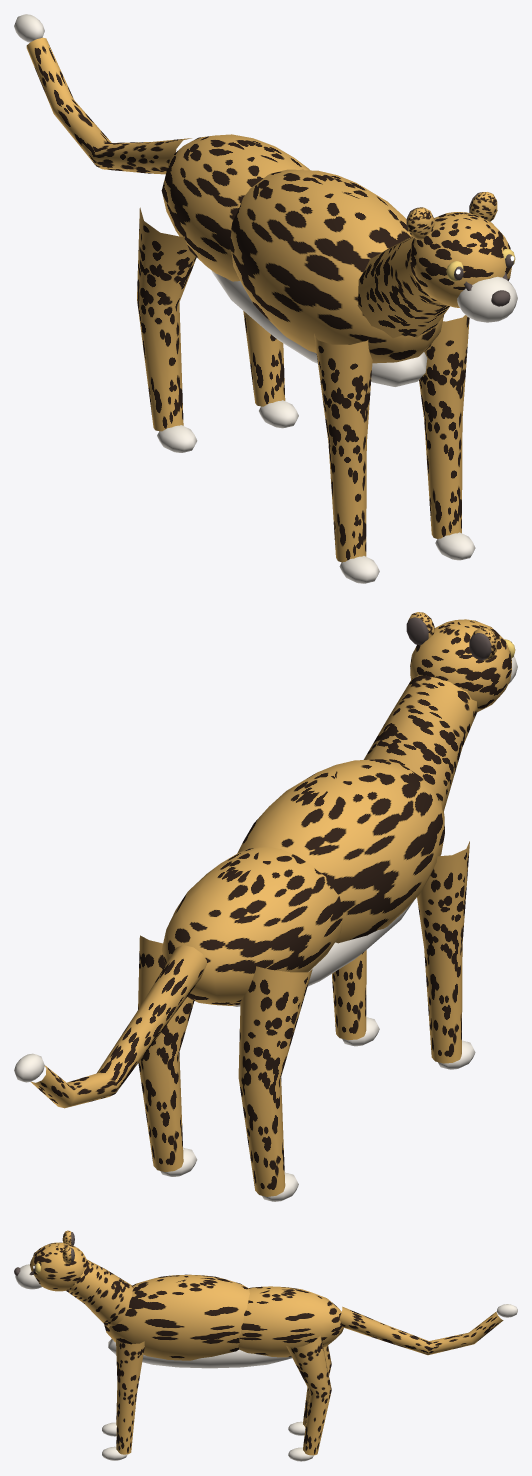
Rendered from anime_cheetah.glb.
3 renders of one model, top to bottom at view 1: azimuth 30°, elevation 25°; view 2: azimuth 150°, elevation 25°; view 3: azimuth 270°, elevation 25°, orthographic. The views are drawn at different scales.
Visible parts, largest first — view 1: anime_cheetah; view 2: anime_cheetah; view 3: anime_cheetah.
Boxes of the visible parts, x1=… form: anime_cheetah: x1=14, y1=14, x2=517, y2=583; anime_cheetah: x1=14, y1=612, x2=517, y2=1201; anime_cheetah: x1=14, y1=1230, x2=517, y2=1461.
Size of the model in its own units: 0.55 by 1.28 by 2.81.
5 materials, 1 textured.
